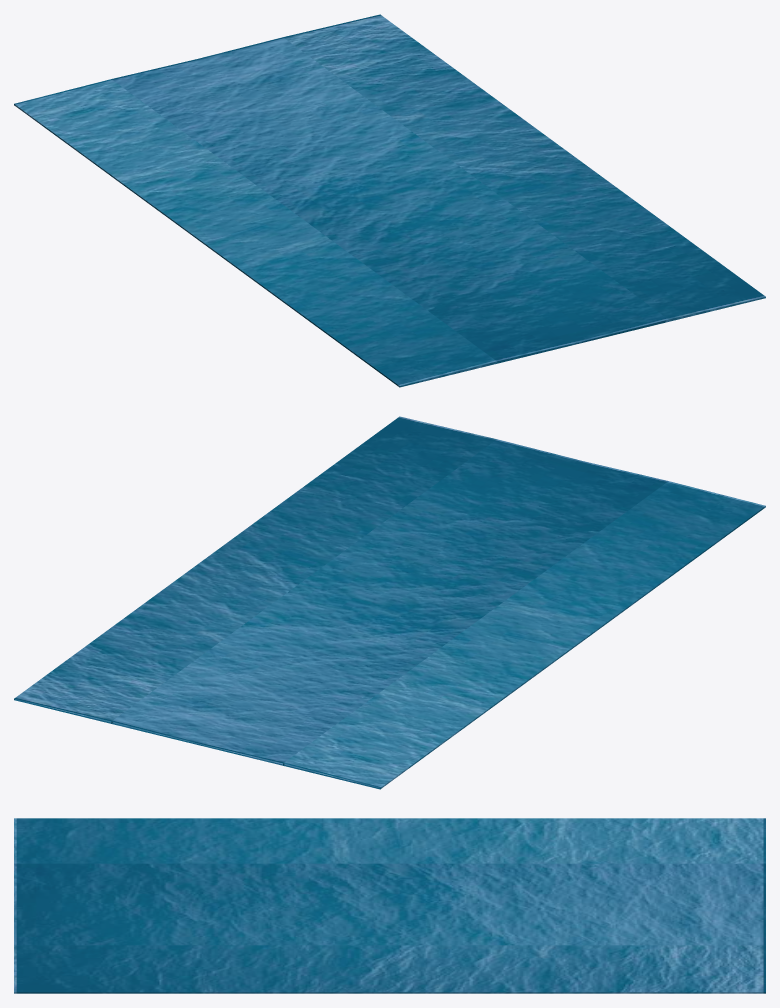
File: denx.fbx
The picture shows the model from 3 angles, top to bottom: view 1: azimuth 30°, elevation 25°; view 2: azimuth 150°, elevation 25°; view 3: azimuth 270°, elevation 25°; orthographic projection. The views are drawn at different scales.
Visible parts, largest first — view 1: Shape009_011.003; view 2: Shape009_011.003; view 3: Shape009_011.003.
Part boxes in pixels (x1,y1,x2,y2): Shape009_011.003: (14, 14, 765, 387); Shape009_011.003: (14, 416, 765, 789); Shape009_011.003: (14, 818, 765, 993).
Size of the model in its own units: 2742 by 17 by 5000.
Materials: 1 (1 with a texture image).
